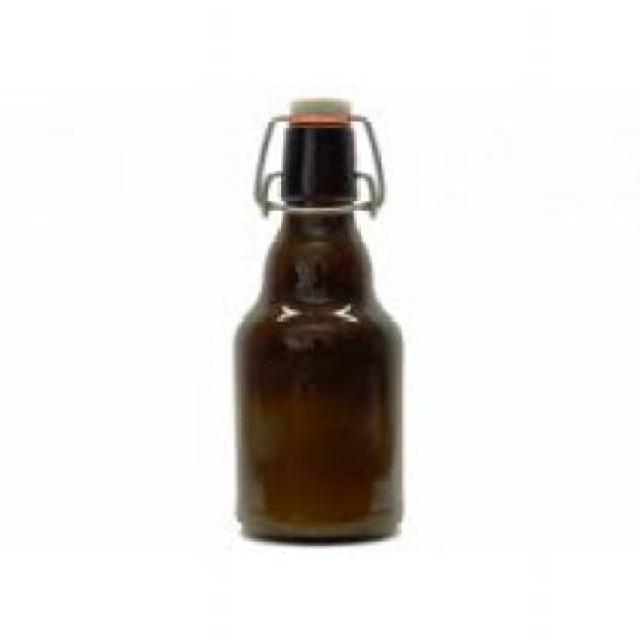kaca: (229, 123, 403, 542)
